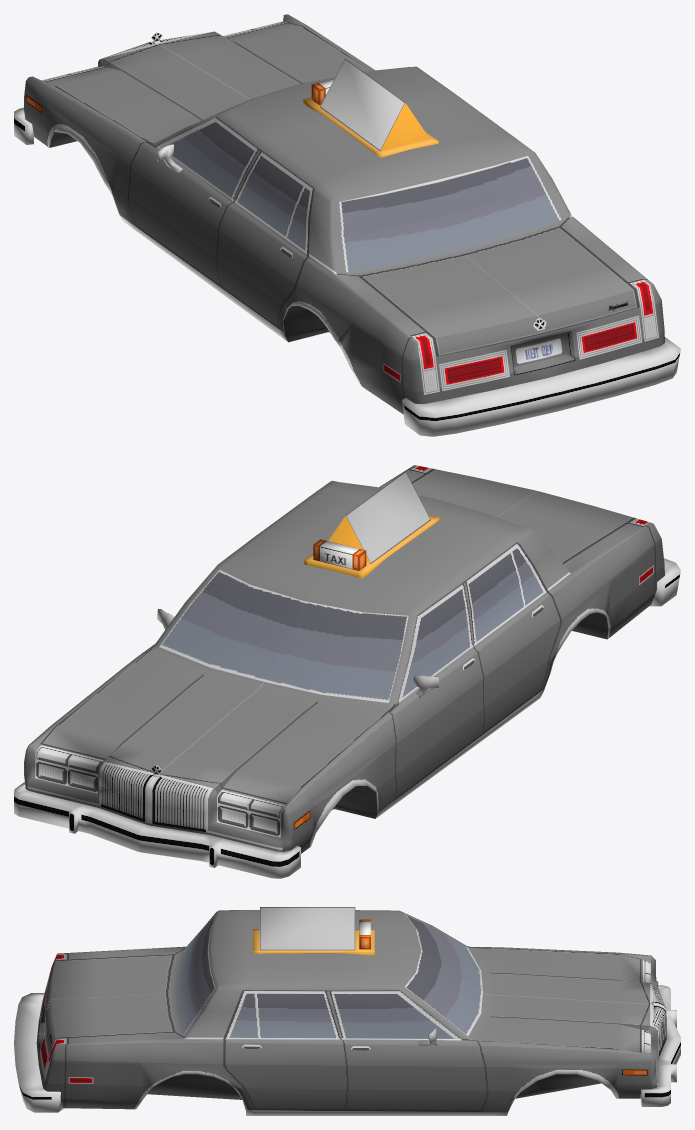
Rendered from 82lebarontaxi2.fbx.
3 renders of one model, top to bottom at view 1: azimuth 30°, elevation 25°; view 2: azimuth 150°, elevation 25°; view 3: azimuth 270°, elevation 25°, orthographic. The views are drawn at different scales.
Parts seen in each view (by area): view 1: 82lebaron; view 2: 82lebaron; view 3: 82lebaron.
Part boxes in pixels (x1,y1,x2,y2): 82lebaron: (14, 14, 680, 436); 82lebaron: (14, 465, 680, 878); 82lebaron: (14, 907, 680, 1115).
Size of the model in its own units: 2.07 by 1.42 by 5.36.
